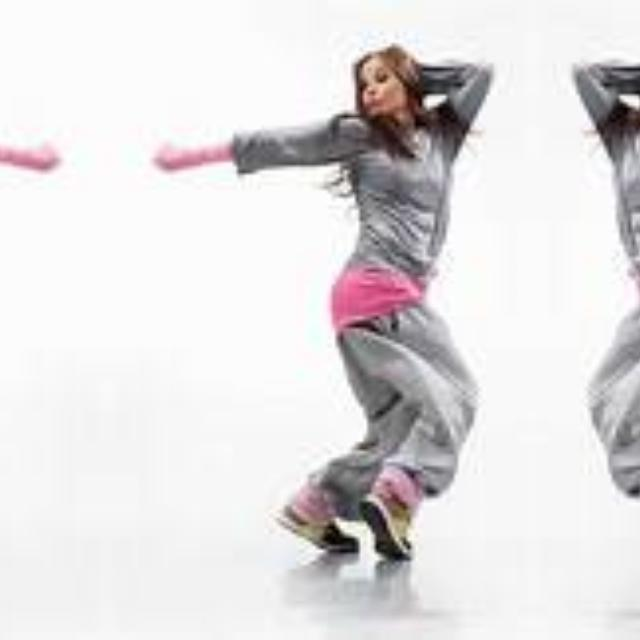person: (256, 34, 516, 558), (549, 34, 640, 558)
